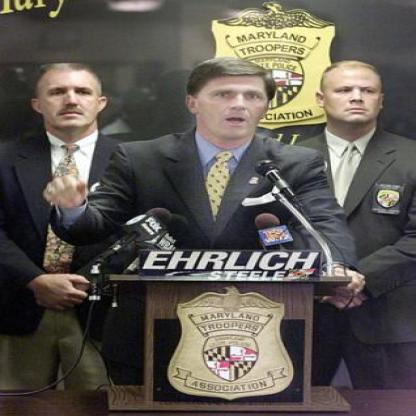face: (198, 60, 270, 141), (40, 64, 102, 132), (325, 64, 385, 127)
